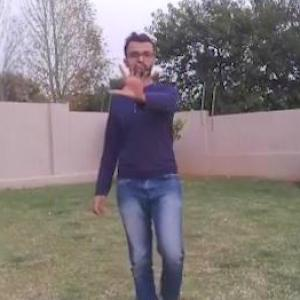follow_hand: (106, 52, 157, 103)
